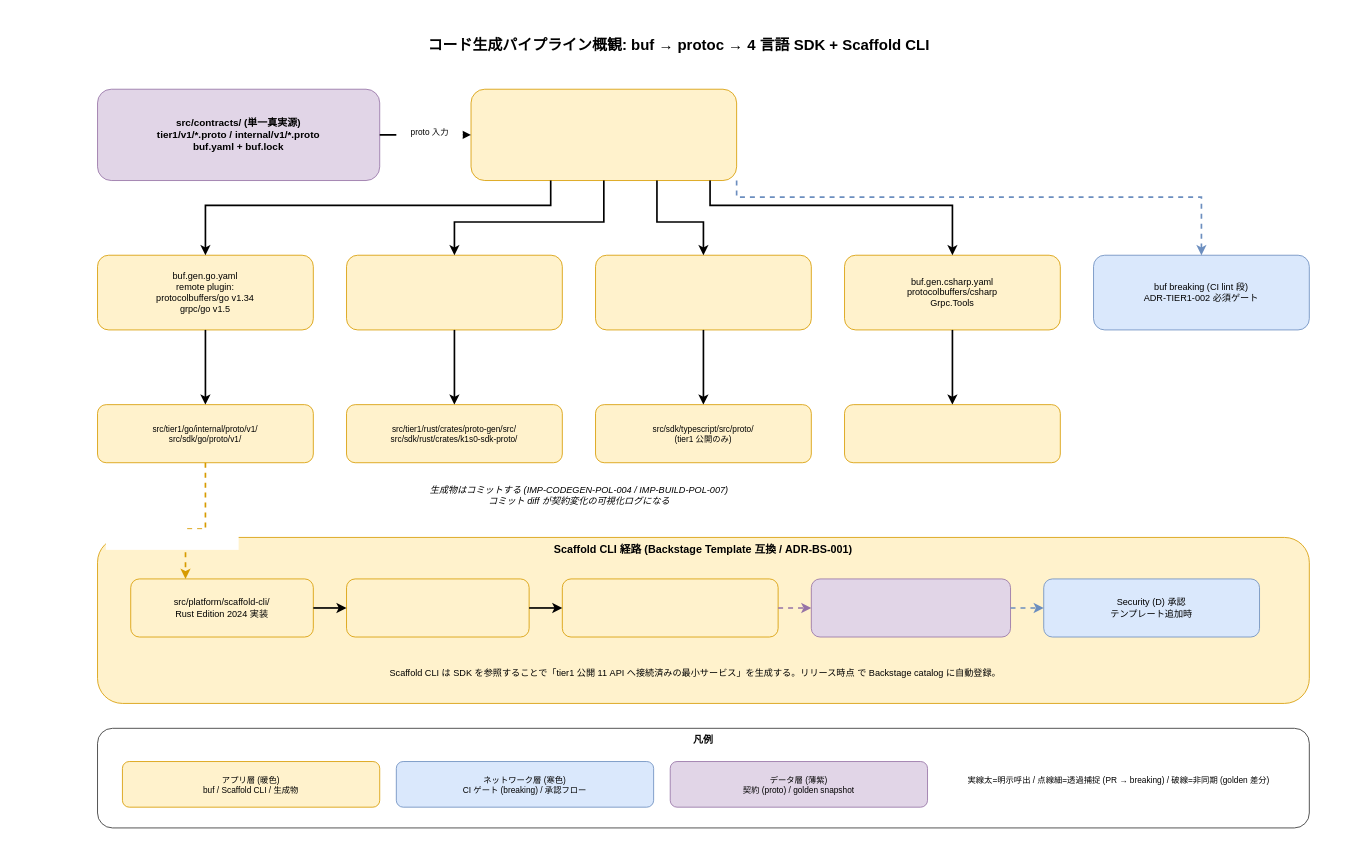
This 1356x858 diagram has some shape labels left out. The box of each missing label's shape, as (x1, y1, x2, y2) in pixels:
buf CLI (版 pin) lint / breaking / generate を 1 バイナリで提供: (470, 88, 737, 181)
buf.gen.rust.yaml tonic-build 0.12 prost-build 0.13: (346, 254, 562, 330)
buf.gen.ts.yaml connectrpc/es: (595, 254, 811, 330)
SDK を雛形に埋込: (105, 529, 238, 549)
src/sdk/dotnet/src/K1s0.Sdk.Proto/Generated/ (tier1 公開のみ): (844, 404, 1060, 463)
src/tier2/templates/ (tier2 / tier3 雛形): (346, 578, 529, 637)
tests/golden/ snapshot 比較で生成器の 後方互換破壊を検出: (810, 578, 1011, 637)
新規サービス足場 catalog-info.yaml 自動生成 Dockerfile / Helm / README: (561, 578, 778, 637)
